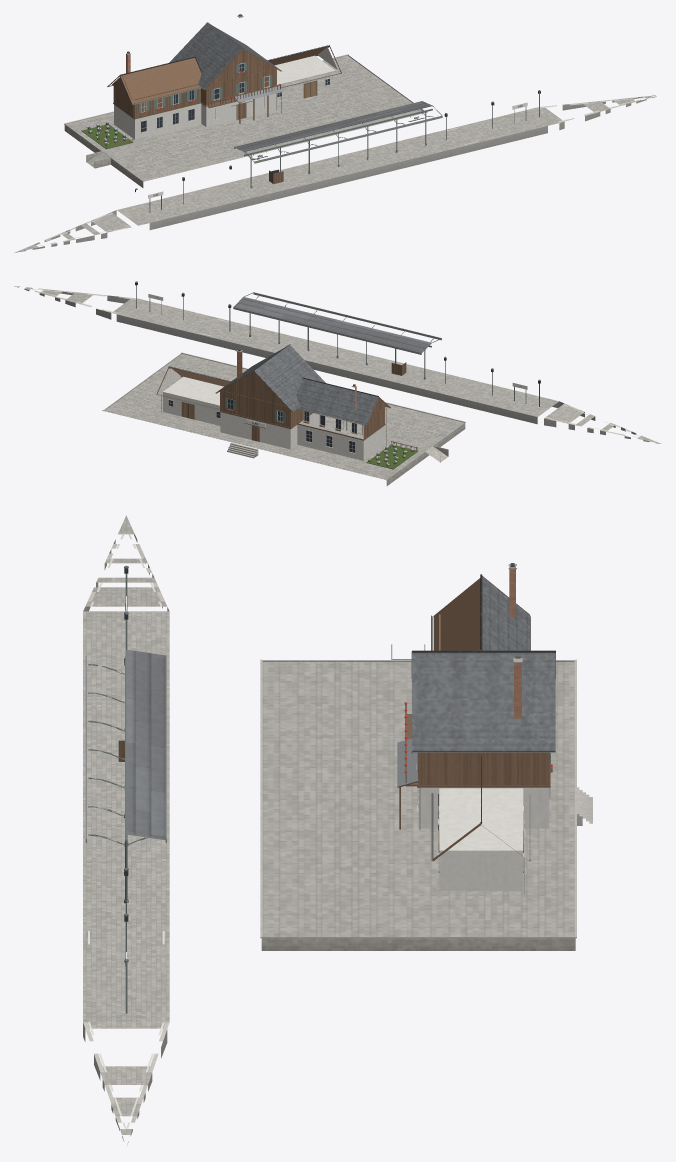
Rendered from station_platform.glb.
3 views of the same model, one above another, from view 1: azimuth 30°, elevation 25°; view 2: azimuth 150°, elevation 25°; view 3: azimuth 270°, elevation 25° (orthographic). The views are drawn at different scales.
Parts seen in each view (by area): view 1: E1_Stazione_Luss, E2_Banchina_Pensilina; view 2: E1_Stazione_Luss, E2_Banchina_Pensilina; view 3: E1_Stazione_Luss, E2_Banchina_Pensilina.
Boxes of the visible parts, x1,y1,x2,y2 form: E1_Stazione_Luss: (64, 14, 427, 187); E2_Banchina_Pensilina: (14, 90, 656, 252); E1_Stazione_Luss: (102, 344, 465, 485); E2_Banchina_Pensilina: (14, 281, 660, 443); E1_Stazione_Luss: (260, 563, 592, 950); E2_Banchina_Pensilina: (83, 515, 169, 1144).
Size of the model in its own units: 0.5713 by 0.0735 by 0.1946.
Materials: 2 (2 with a texture image).
